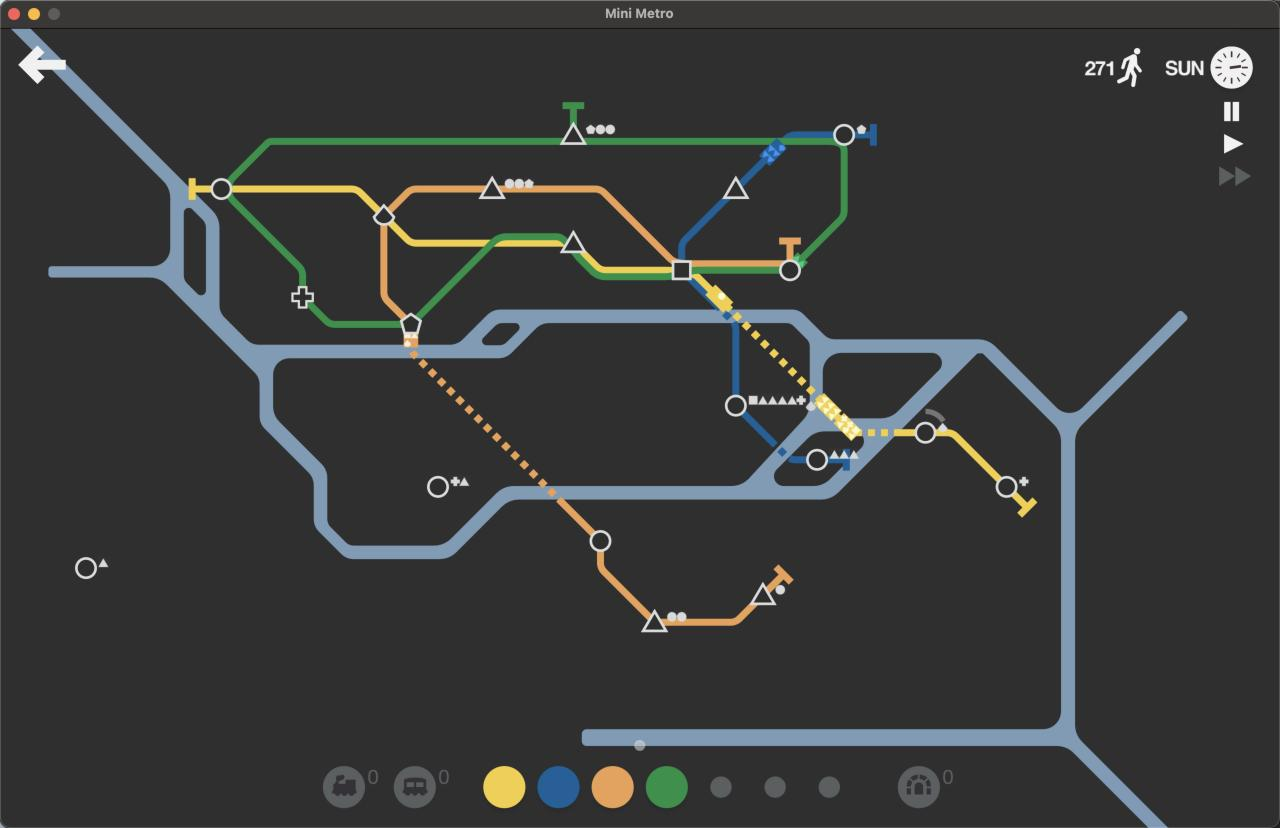CIRCLE: (74, 555, 99, 581), (426, 475, 450, 499), (724, 394, 748, 417), (589, 529, 612, 553), (778, 259, 802, 282), (833, 123, 856, 146), (995, 475, 1018, 498), (914, 421, 937, 444), (806, 448, 829, 471), (210, 177, 232, 200)
CROSS: (290, 285, 314, 309)
PENTAGON: (399, 312, 423, 348)
SQUARE: (671, 260, 692, 280)
TRIANGLE: (749, 581, 777, 608), (559, 119, 586, 145), (641, 608, 669, 633), (560, 229, 587, 254), (479, 175, 506, 200), (722, 175, 749, 200)
WEDGE: (372, 203, 396, 226)
